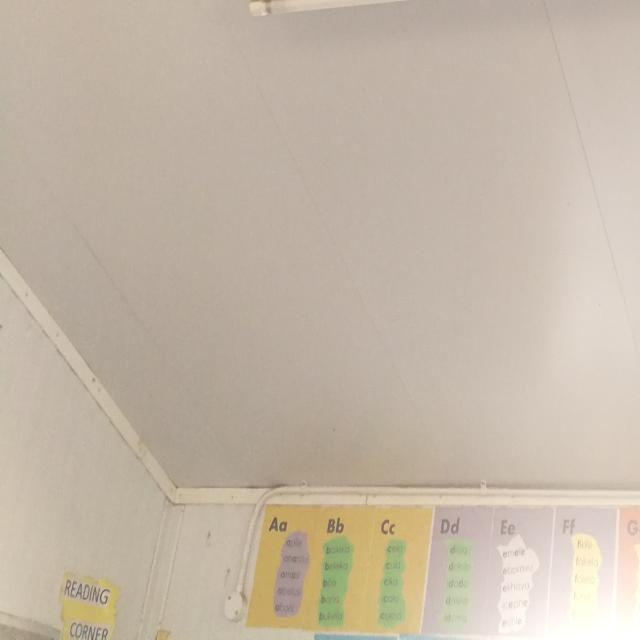fluorescent tube: (213, 0, 640, 83)
